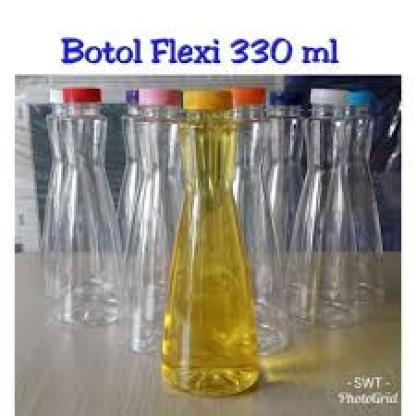Glass Bottle: (157, 88, 259, 402), (39, 89, 132, 337), (116, 79, 195, 361), (222, 87, 291, 356), (292, 87, 364, 326), (252, 88, 324, 325), (341, 88, 385, 317)
